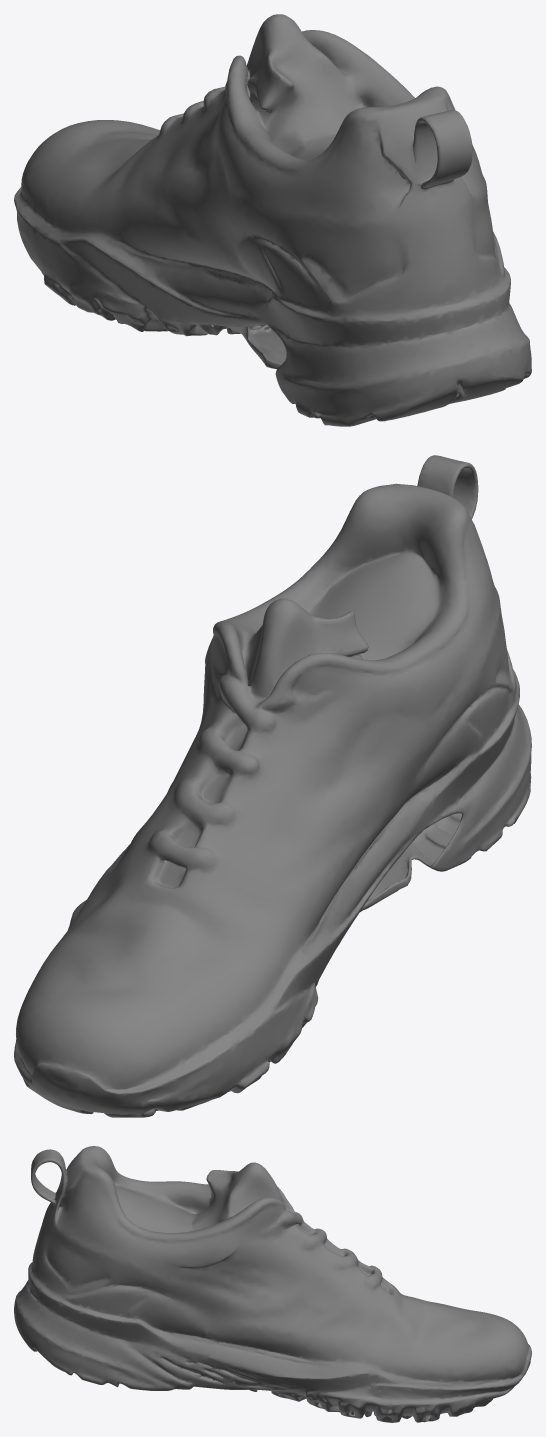
Rendered from shoe.glb.
3 renders of one model, top to bottom at view 1: azimuth 30°, elevation 25°; view 2: azimuth 150°, elevation 25°; view 3: azimuth 270°, elevation 25°, orthographic. The views are drawn at different scales.
Visible parts, largest first — view 1: world; view 2: world; view 3: world.
Part boxes in pixels (<box>): world: <box>14,14,531,426</box>; world: <box>14,455,531,1117</box>; world: <box>14,1146,531,1422</box>.
Bounding box in the file's own units: 0.3337 × 0.5408 × 1.
1 material, 1 textured.
